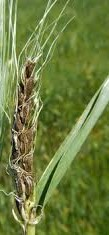Wheat Loose Smut: (8, 54, 43, 203)
